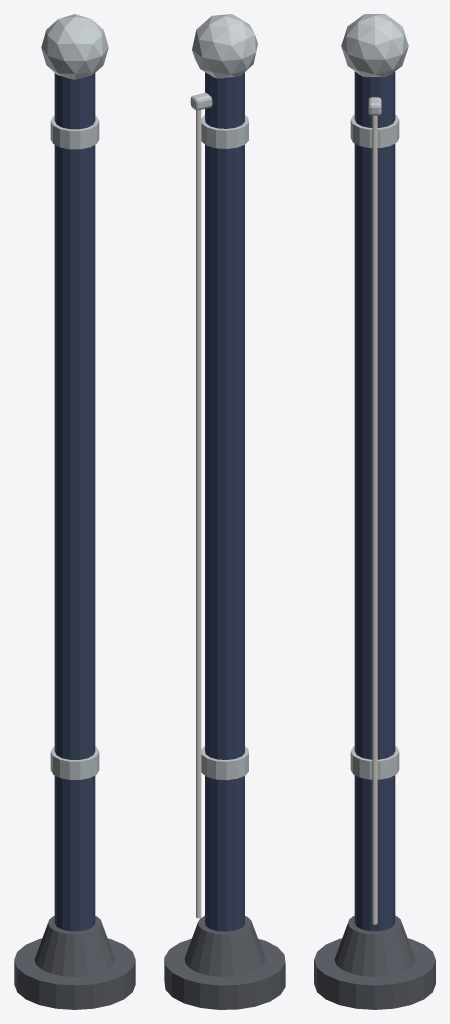
File: flagpole.glb
3 renders of one model, left to right at view 1: azimuth 90°, elevation 25°; view 2: azimuth 210°, elevation 25°; view 3: azimuth 270°, elevation 25°, orthographic.
Visible parts, largest first — view 1: FlagPoleMesh; view 2: FlagPoleMesh; view 3: FlagPoleMesh.
Boxes of the visible parts, left/top/right/bottom form: FlagPoleMesh: left=14, top=14, right=135, bottom=1009; FlagPoleMesh: left=164, top=14, right=285, bottom=1009; FlagPoleMesh: left=314, top=14, right=435, bottom=1009.
Size of the model in its own units: 0.18 by 1.58 by 0.18.
